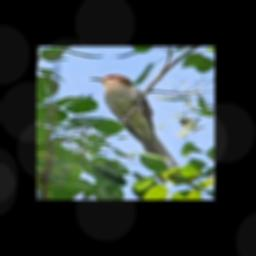Cuckoo: (88, 74, 177, 184)
